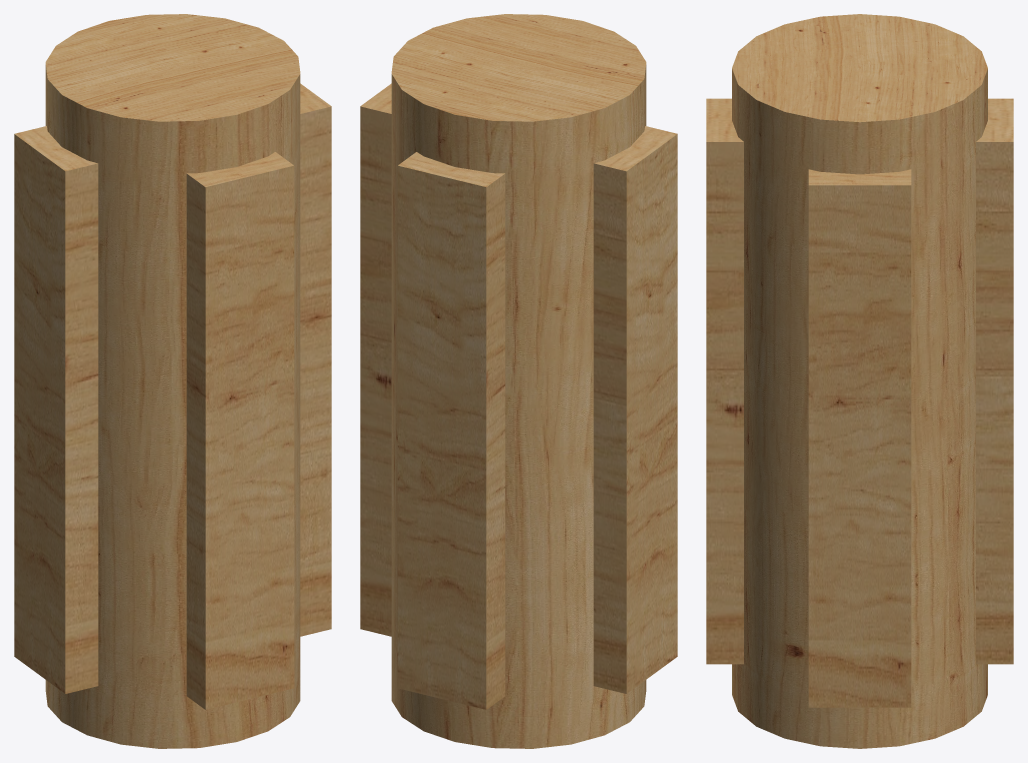
The model's file is column_wood.fbx.
The picture shows the model from 3 angles, left to right: view 1: azimuth 30°, elevation 25°; view 2: azimuth 150°, elevation 25°; view 3: azimuth 270°, elevation 25°; orthographic projection.
Parts seen in each view (by area): view 1: pCylinder3; view 2: pCylinder3; view 3: pCylinder3.
Boxes of the visible parts, x1,y1,x2,y2 form: pCylinder3: (14, 14, 331, 748); pCylinder3: (360, 14, 677, 748); pCylinder3: (706, 14, 1013, 748).
Size of the model in its own units: 2.4 by 5.4 by 2.4.
